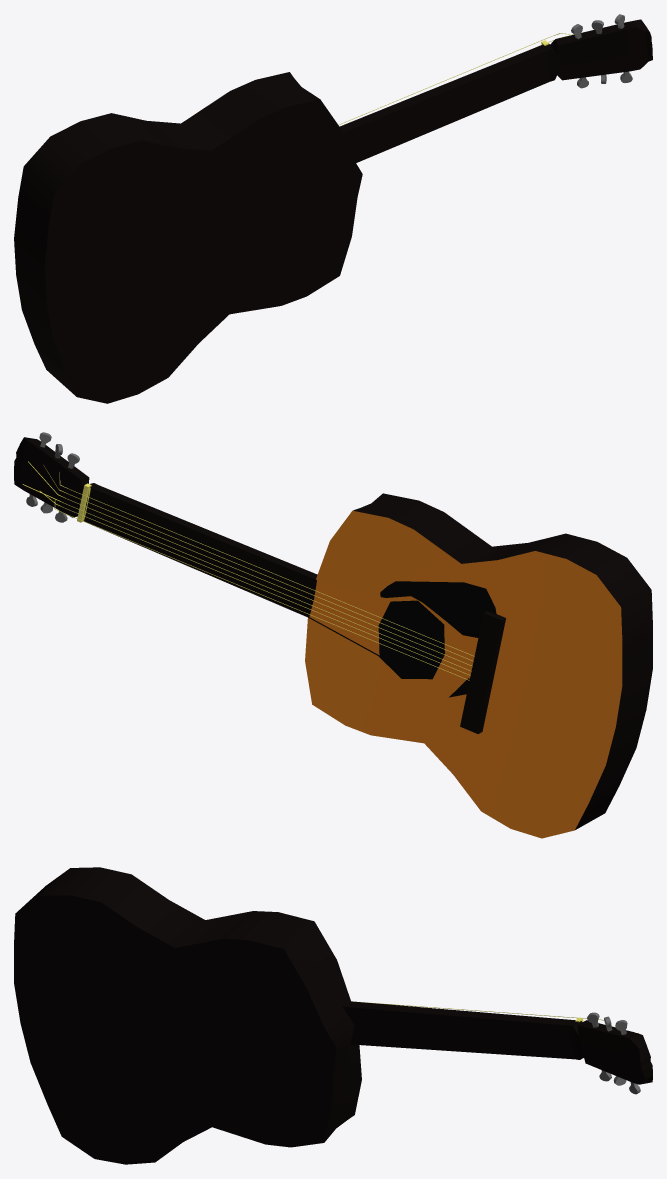
Rendered from guitareFolk.FBX.
The picture shows the model from 3 angles, top to bottom: view 1: azimuth 30°, elevation 25°; view 2: azimuth 150°, elevation 25°; view 3: azimuth 330°, elevation 25°; orthographic projection.
Visible parts, largest first — view 1: guitare001; view 2: guitare001, fond_guitare001, cordes007, barrette_bas001; view 3: guitare001.
Part boxes in pixels (x1,y1,x2,y2): guitare001: (14, 19, 652, 403); guitare001: (14, 437, 652, 838); fond_guitare001: (371, 600, 469, 697); cordes007: (22, 461, 474, 680); barrette_bas001: (460, 611, 505, 733); guitare001: (14, 867, 652, 1164).
Size of the model in its own units: 1162 by 491 by 145.
